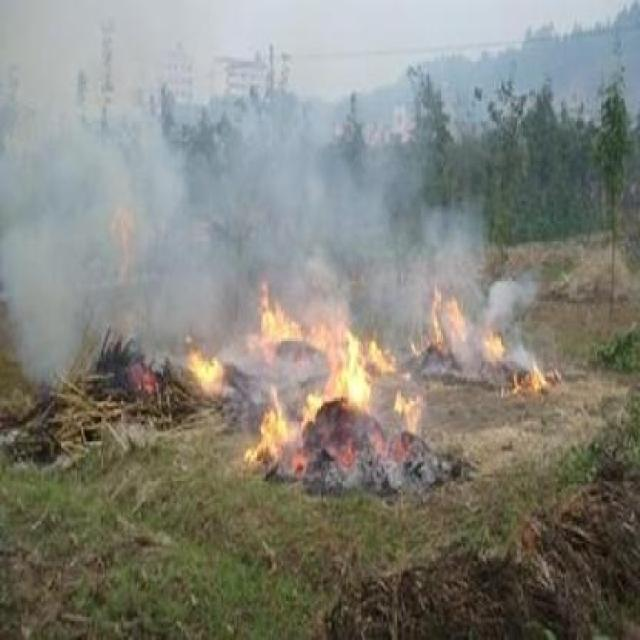Fire: (240, 268, 428, 516), (432, 276, 568, 396), (184, 348, 218, 394)
Smoke: (4, 2, 234, 348), (241, 93, 570, 289)
